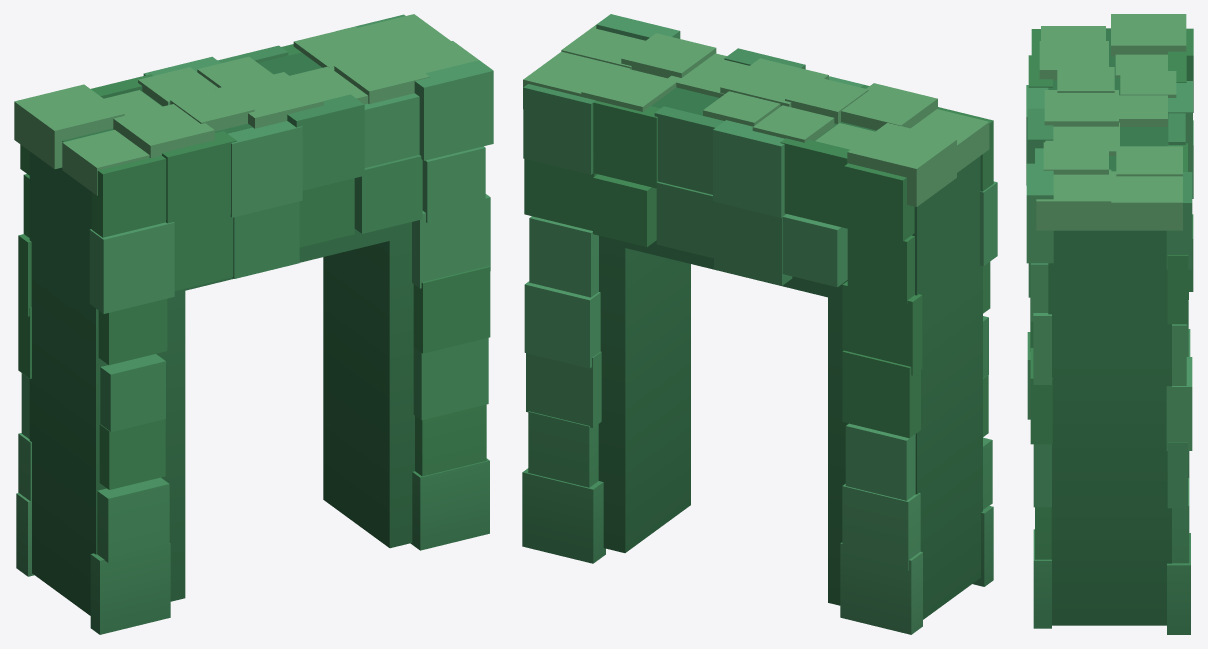
File: hedge-arch-h3.4.glb
3 views of the same model, side by side, from view 1: azimuth 30°, elevation 25°; view 2: azimuth 150°, elevation 25°; view 3: azimuth 270°, elevation 25° (orthographic). The views are drawn at different scales.
Visible parts, largest first — view 1: hedge-arch-h3.4_body; view 2: hedge-arch-h3.4_body; view 3: hedge-arch-h3.4_body.
Part boxes in pixels (box(x1,y1,x2,y2)): hedge-arch-h3.4_body: box(14, 14, 493, 634); hedge-arch-h3.4_body: box(522, 14, 997, 634); hedge-arch-h3.4_body: box(1026, 14, 1193, 634).
Bounding box in the file's own units: 3.12 × 3.56 × 1.22.
